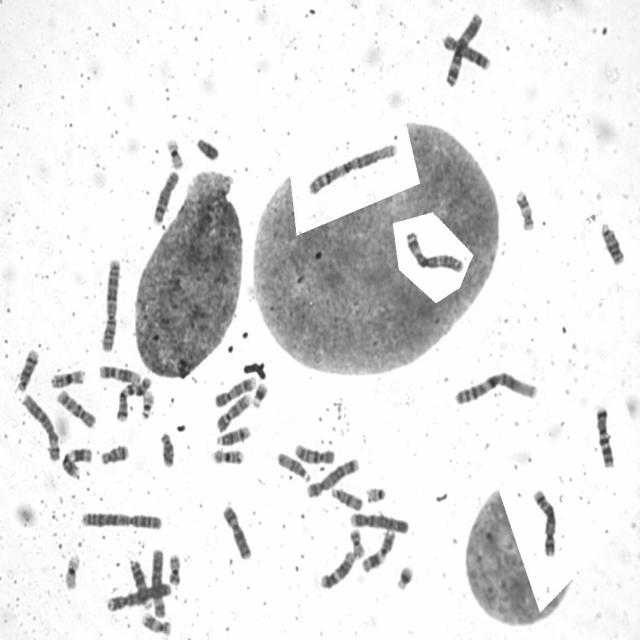A1: (305, 139, 399, 197), (452, 369, 538, 406)
A2: (98, 255, 122, 354), (78, 508, 164, 530)
A3: (442, 11, 483, 88), (403, 228, 465, 274)
B4: (104, 579, 172, 613), (348, 509, 409, 535)
B5: (304, 456, 360, 499), (530, 486, 557, 559)
C10: (55, 387, 97, 429), (293, 441, 336, 465)
C11: (359, 527, 396, 574), (60, 444, 93, 480)
C12: (317, 547, 357, 591), (96, 362, 142, 386)
C6: (19, 391, 61, 463), (149, 546, 166, 619)
C7: (114, 374, 153, 423), (592, 402, 616, 470)
C8: (440, 30, 492, 72), (150, 166, 180, 226)
C9: (215, 391, 252, 433), (213, 374, 257, 408)
D13: (598, 218, 626, 266), (127, 556, 151, 610)
D14: (15, 346, 40, 393), (215, 424, 251, 446)
D15: (275, 449, 312, 483), (329, 485, 364, 511)
E16: (49, 366, 86, 389), (210, 447, 244, 465)
E17: (514, 186, 534, 232), (139, 610, 173, 637)
E18: (98, 441, 130, 467), (157, 429, 175, 469)
F19: (164, 134, 185, 170), (63, 551, 81, 590)
F20: (348, 526, 366, 559), (167, 550, 182, 586)
G21: (394, 561, 414, 592), (250, 379, 269, 408)
G22: (139, 388, 156, 420), (364, 483, 387, 505)
X: (221, 502, 252, 560)
Y: (193, 133, 221, 163)
